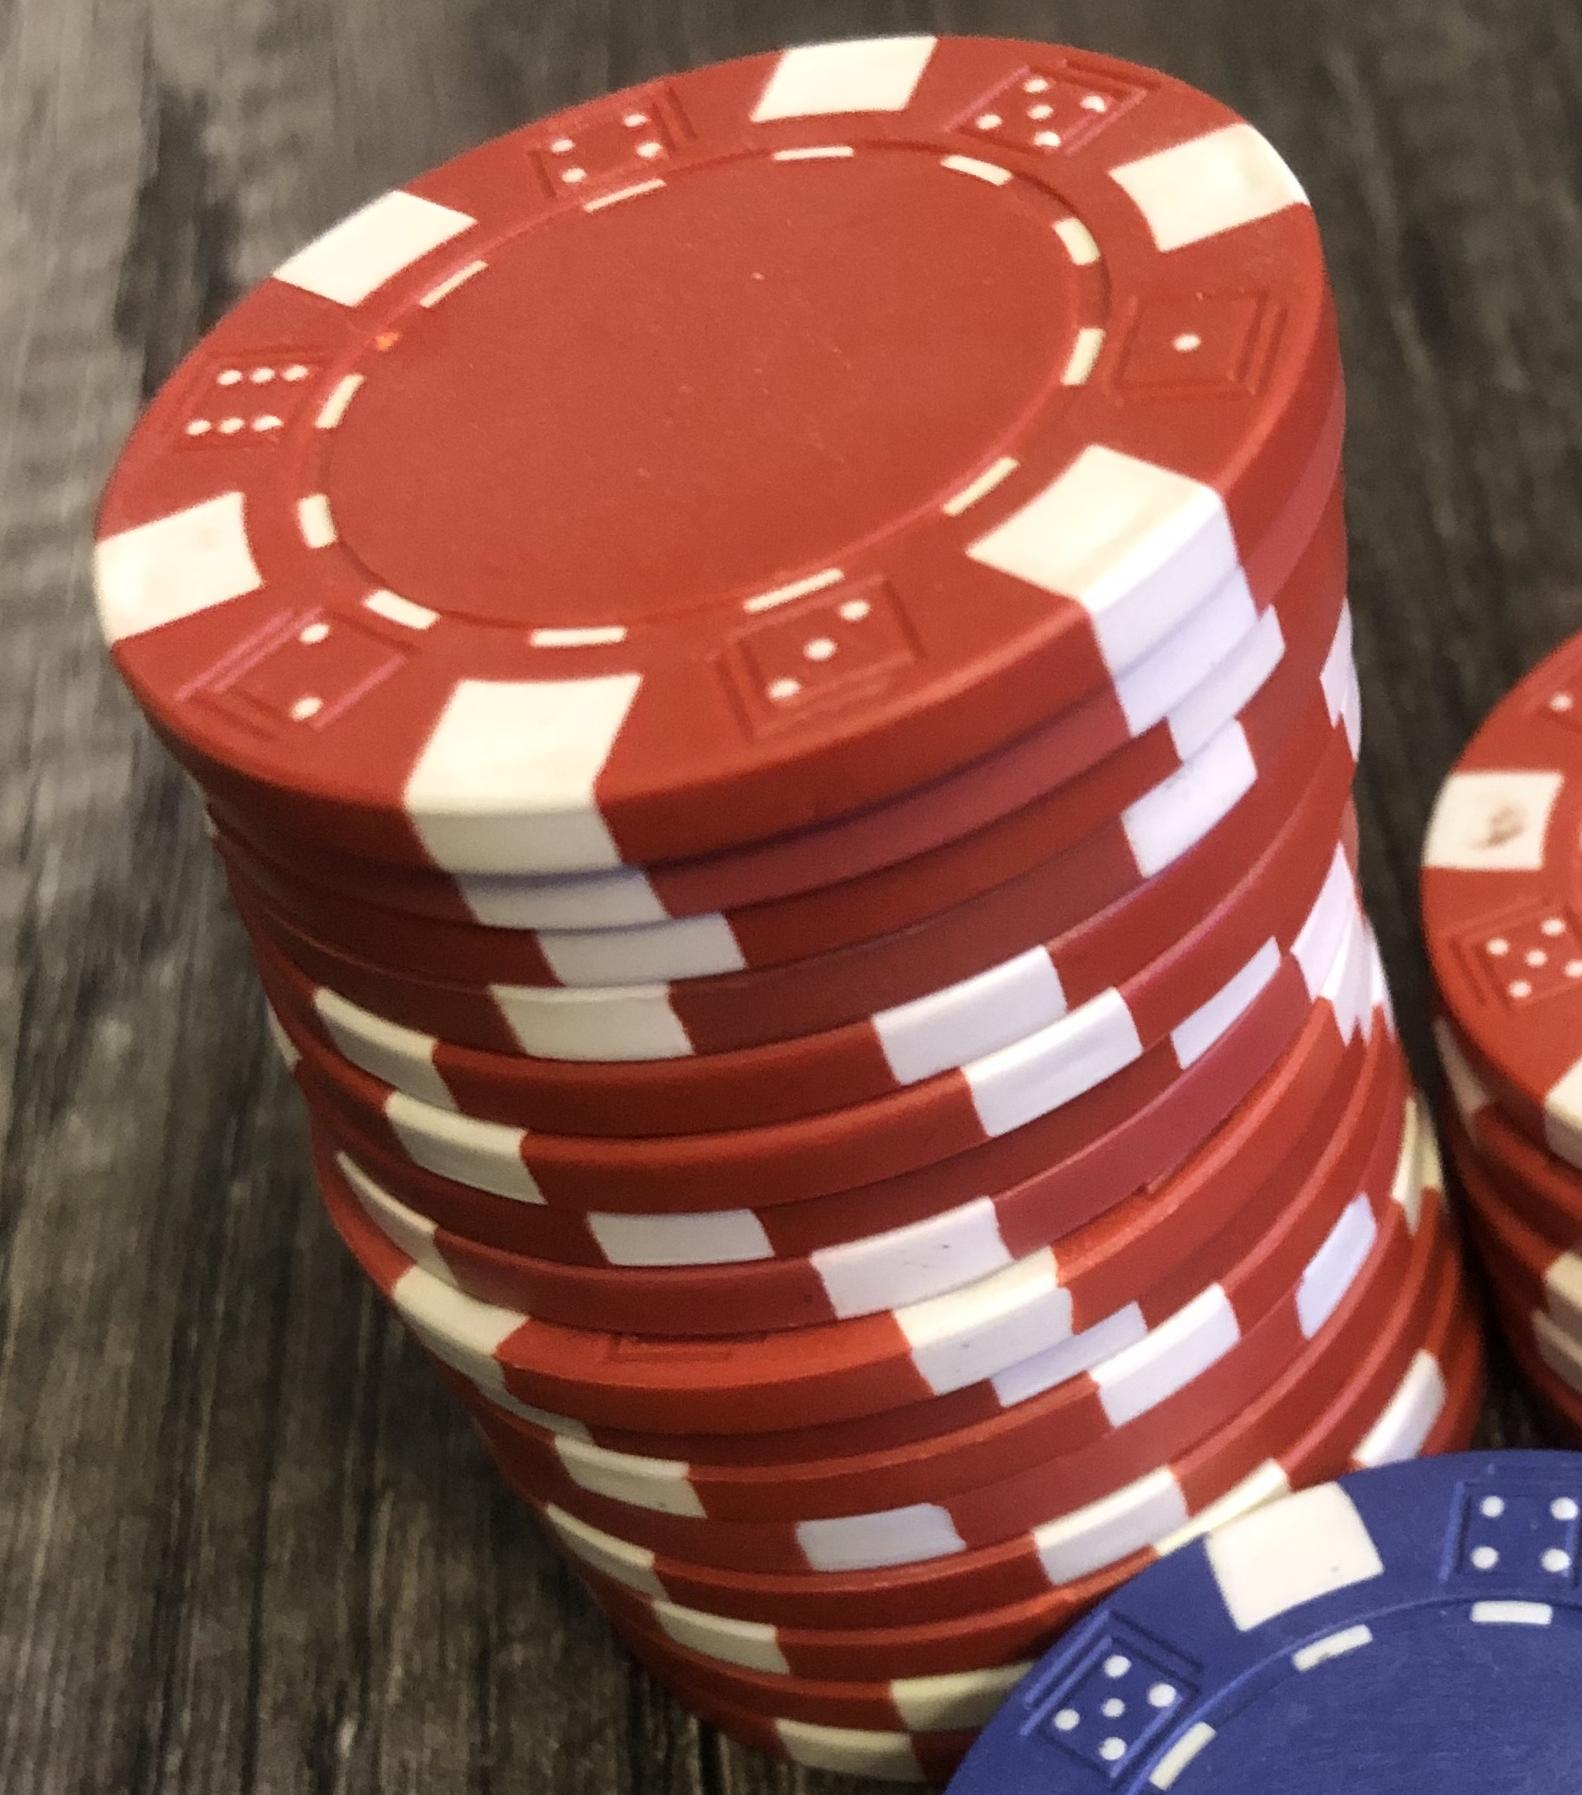Chip: (2, 2, 1582, 1795)
